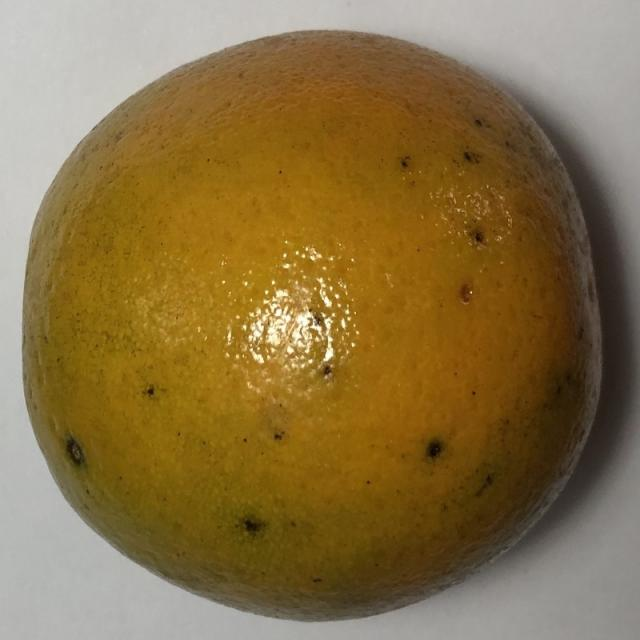blackspot: (0, 10, 618, 618)
